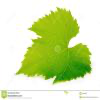grape leaf: (12, 4, 93, 87)
